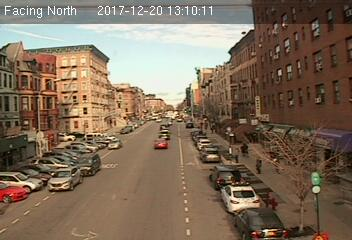car: (232, 205, 290, 240), (46, 167, 83, 190), (210, 164, 242, 190), (72, 153, 105, 177), (202, 148, 219, 161), (152, 138, 168, 149)
pedestrian: (256, 155, 262, 175)
police: (220, 182, 262, 214)
